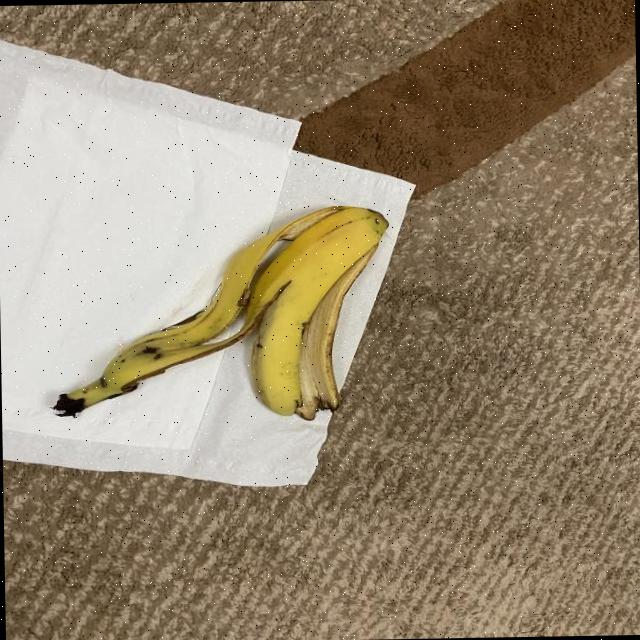banana-peel: (48, 202, 392, 424)
